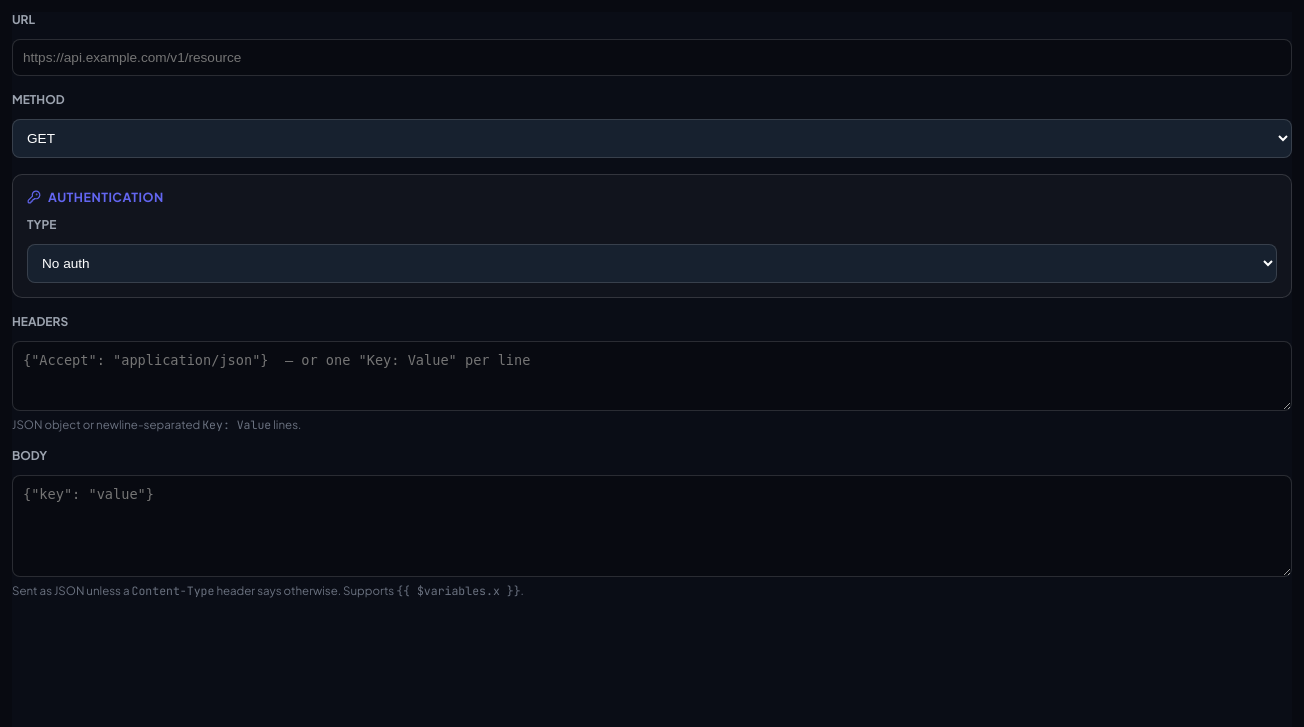
HttpRequestPropertyForm › reveals the credential picker for Bearer, and header fields for API key
Step 1. Select "Bearer token" in the dropdown below "Authentication" → (652, 264), box [27, 244, 1277, 283]
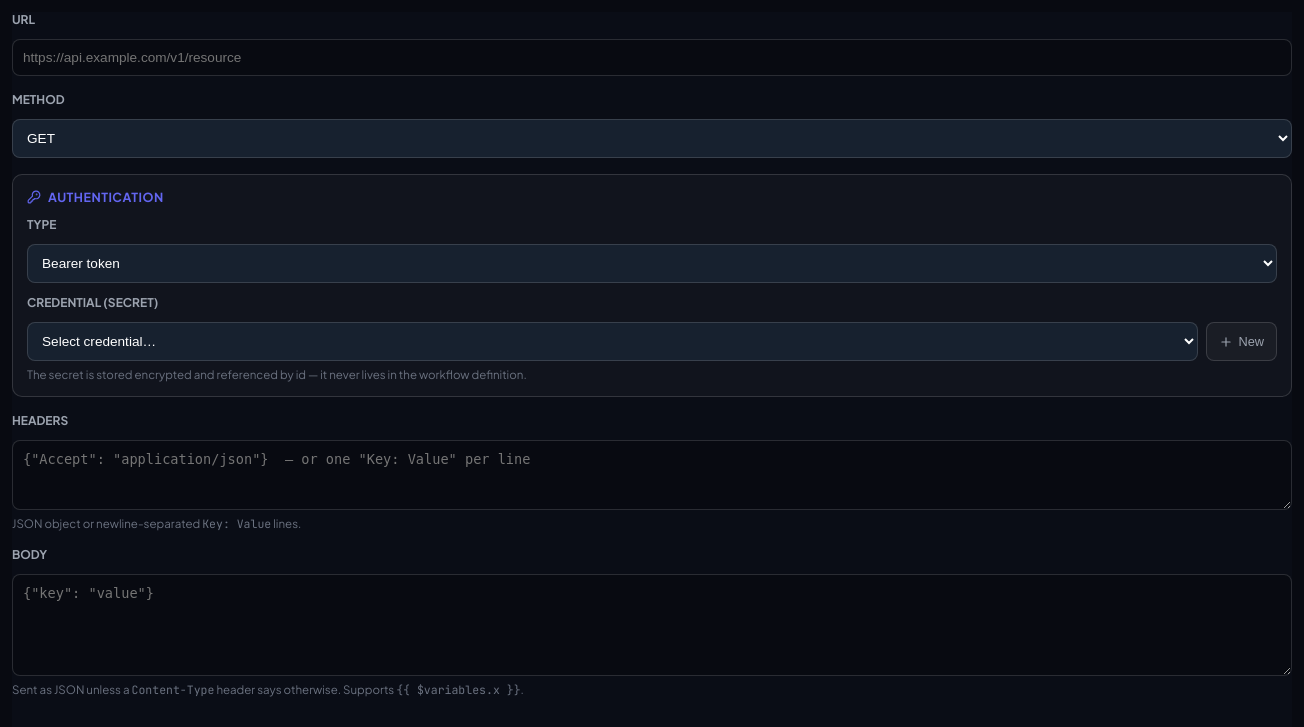
Expected: the text "Header name" is not shown
Now the text "Credential (secret)" is shown, box [27, 295, 158, 310]
Step 2. Select "API key (custom header)" in the 2nd dropdown → (652, 264), box [27, 244, 1277, 283]
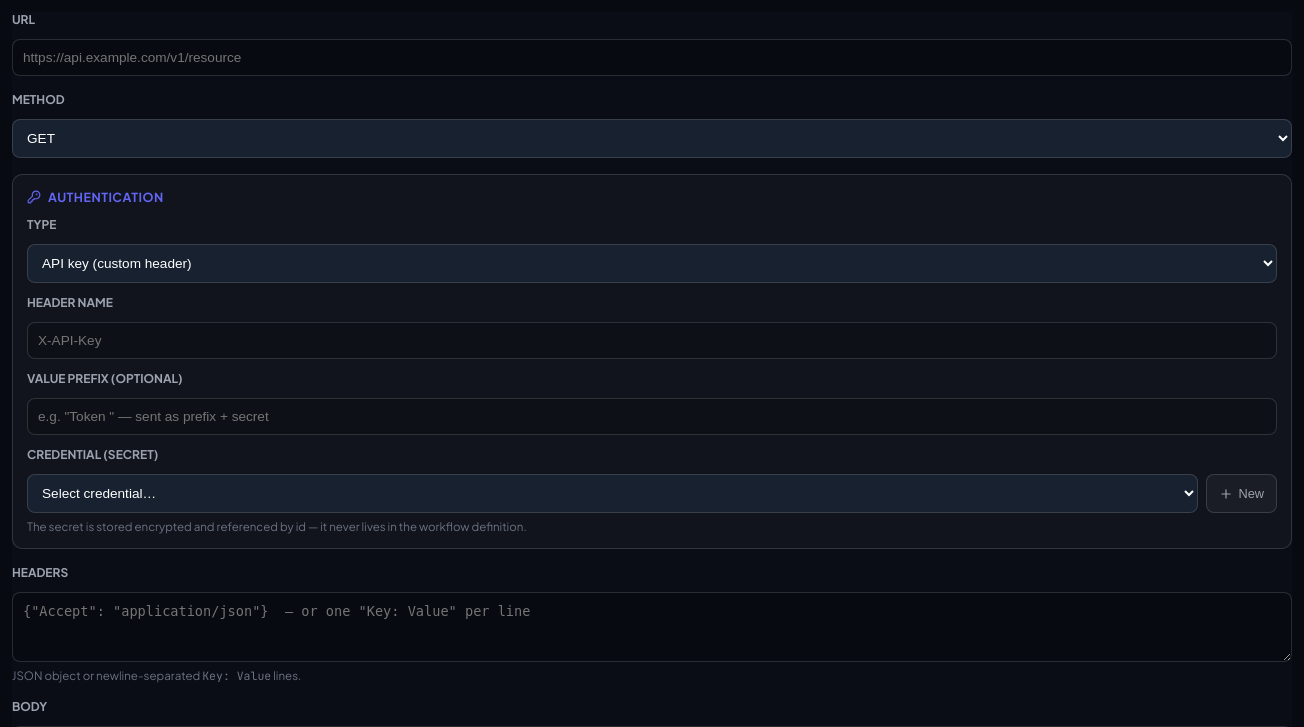
Now the text "Credential (secret)" is shown, box [27, 447, 158, 462]
Now the text "Header name" is shown, box [27, 295, 113, 310]
Now the text "Value prefix (optional)" is shown, box [27, 371, 183, 386]
